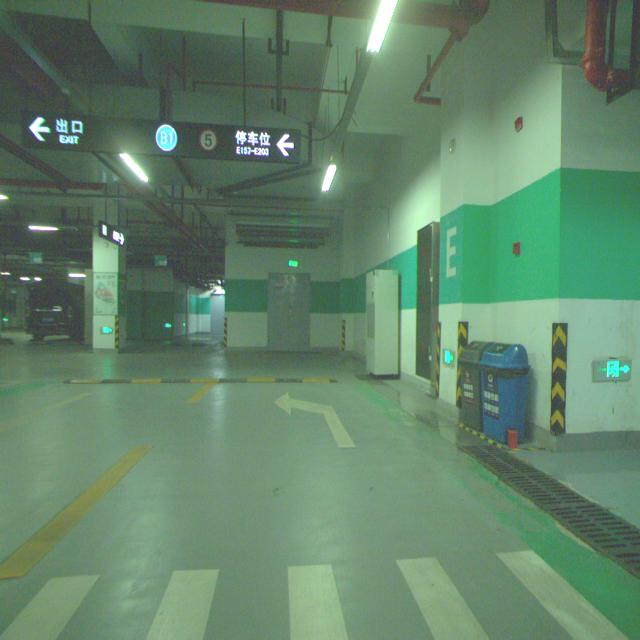pillar: (92, 228, 126, 350)
